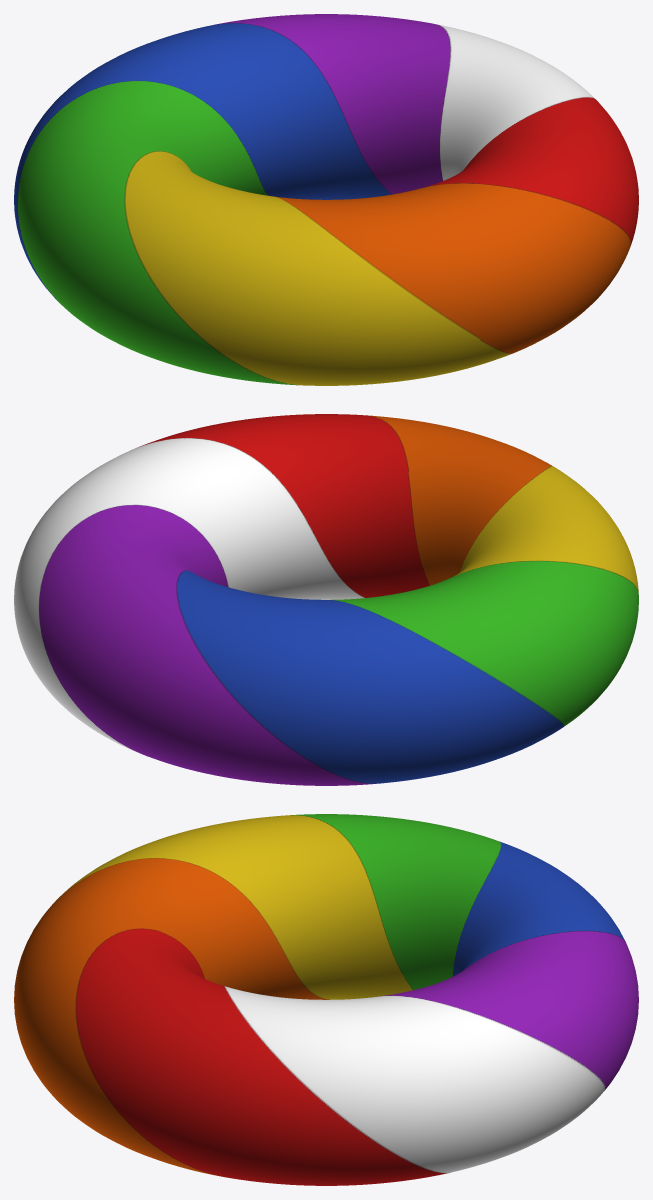
File: donut.glb
3 renders of one model, top to bottom at view 1: azimuth 30°, elevation 25°; view 2: azimuth 150°, elevation 25°; view 3: azimuth 270°, elevation 25°, orthographic.
Parts seen in each view (by area): view 1: Object_2; view 2: Object_2; view 3: Object_2.
Part boxes in pixels (<box>): Object_2: <box>14,14,638,385</box>; Object_2: <box>14,414,638,785</box>; Object_2: <box>14,814,638,1185</box>.
Bounding box in the file's own units: 630 × 188 × 630.
Materials: 1 (1 with a texture image).
